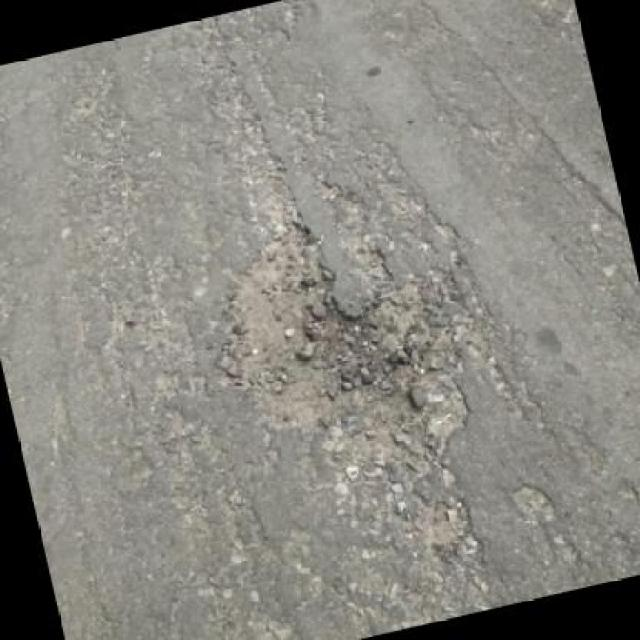pothole: (183, 194, 472, 511)
